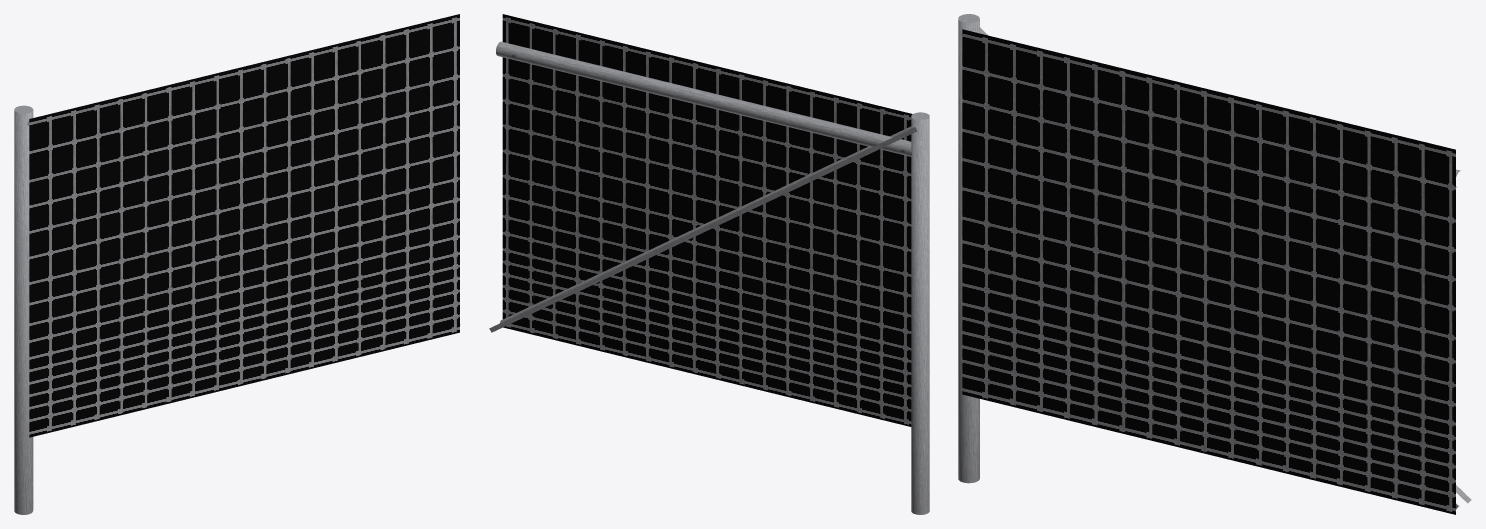
The model's file is fence-tall-mesh-end-cbj_LOD00.gltf.
3 renders of one model, left to right at view 1: azimuth 30°, elevation 25°; view 2: azimuth 150°, elevation 25°; view 3: azimuth 330°, elevation 25°, orthographic. The views are drawn at different scales.
Parts seen in each view (by area): view 1: Cube; view 2: Cube; view 3: Cube.
Part boxes in pixels (x1,y1,x2,y2): Cube: [14, 14, 460, 514]; Cube: [489, 14, 929, 514]; Cube: [958, 14, 1471, 514].
Bounding box in the file's own units: 2.68 × 2.33 × 0.1127.
